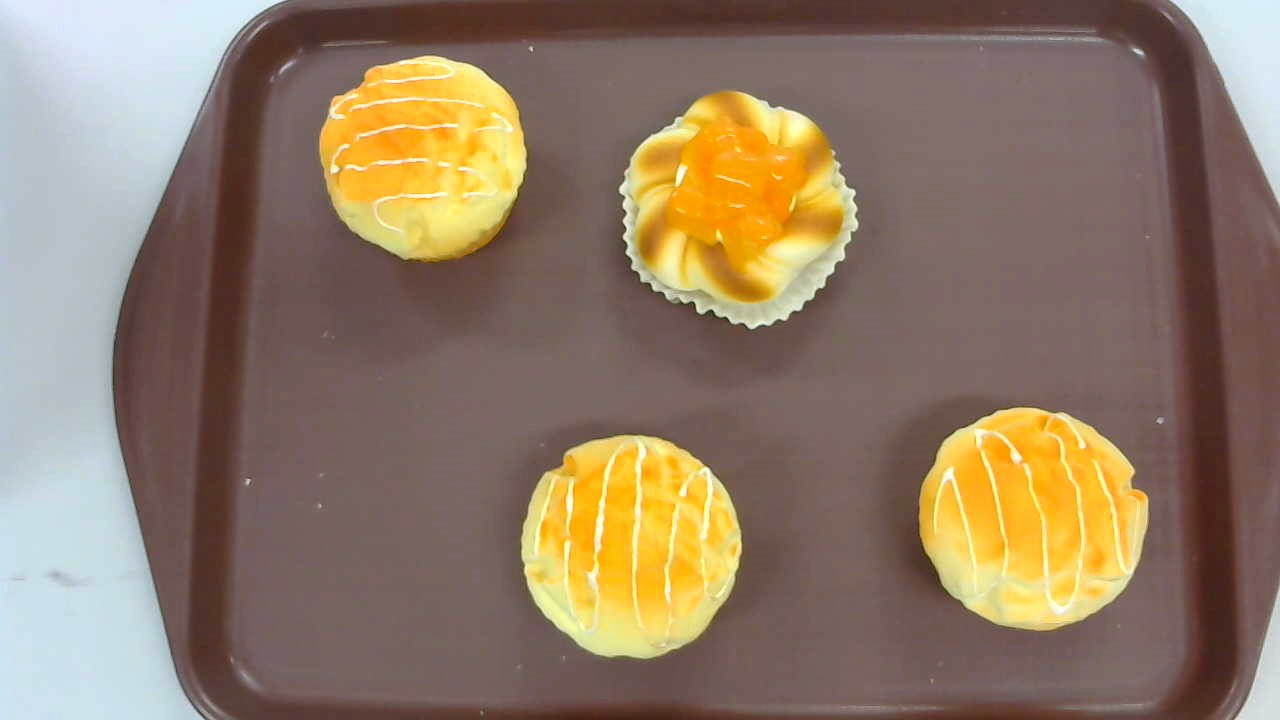cupcake: (917, 406, 1146, 633), (520, 433, 742, 658), (319, 55, 526, 264)
mango tart: (619, 88, 859, 330)
